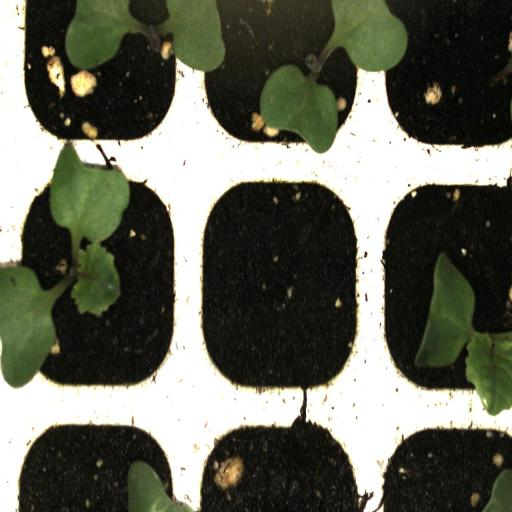Folha: (259, 64, 338, 154), (327, 0, 408, 73), (150, 0, 225, 73), (127, 460, 193, 512)
Germinacao: (10, 168, 189, 404), (370, 170, 512, 405), (190, 0, 371, 168), (11, 0, 189, 168)
